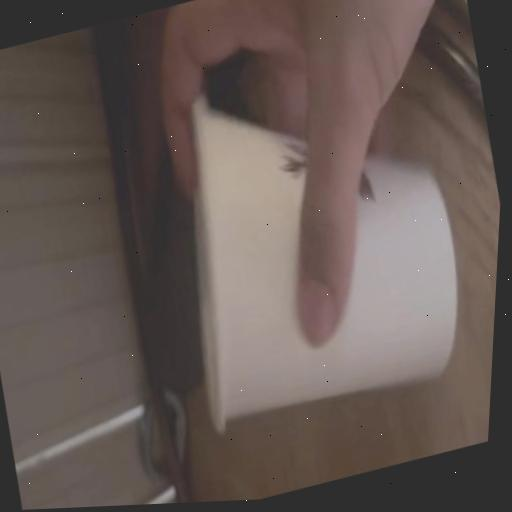ly_giay: (192, 96, 456, 427)
